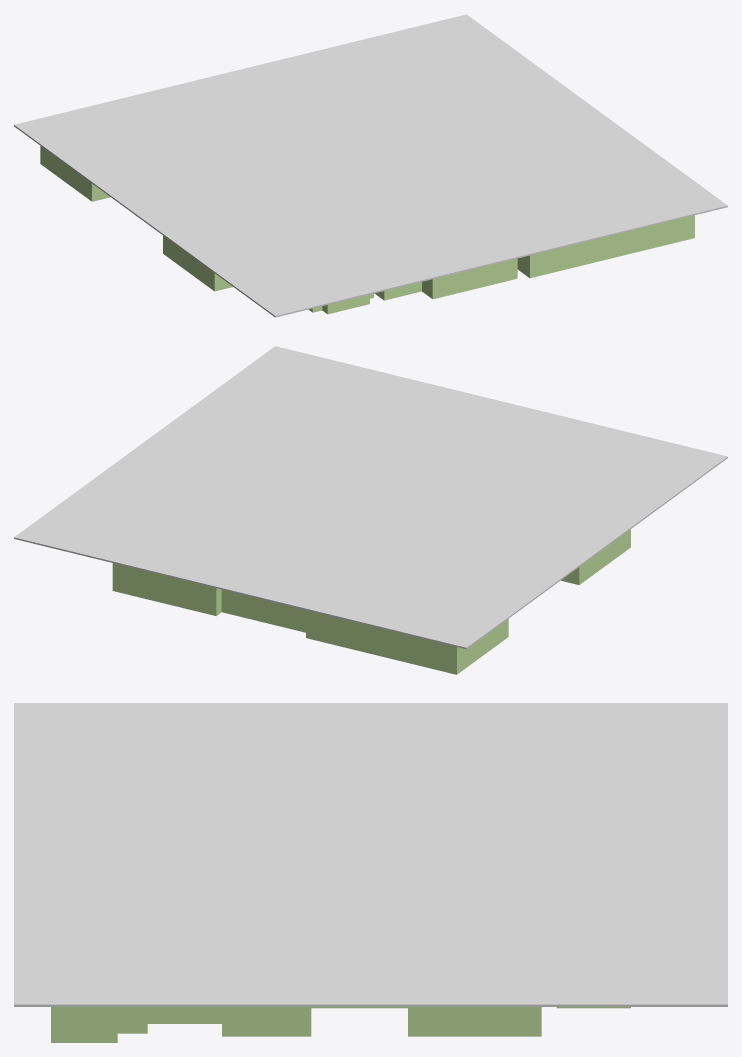
Rendered from Map.fbx.
The picture shows the model from 3 angles, top to bottom: view 1: azimuth 30°, elevation 25°; view 2: azimuth 150°, elevation 25°; view 3: azimuth 270°, elevation 25°; orthographic projection. The views are drawn at different scales.
Parts seen in each view (by area): view 1: Ceiling, Walls; view 2: Ceiling, Walls; view 3: Ceiling, Walls.
Boxes of the visible parts, bbox=[...] form: Ceiling: bbox=[14, 14, 727, 317]; Walls: bbox=[40, 146, 694, 314]; Ceiling: bbox=[14, 346, 727, 649]; Walls: bbox=[112, 529, 630, 674]; Ceiling: bbox=[14, 703, 727, 1006]; Walls: bbox=[51, 1007, 630, 1042].
Size of the model in its own units: 7583 by 601 by 7583.
